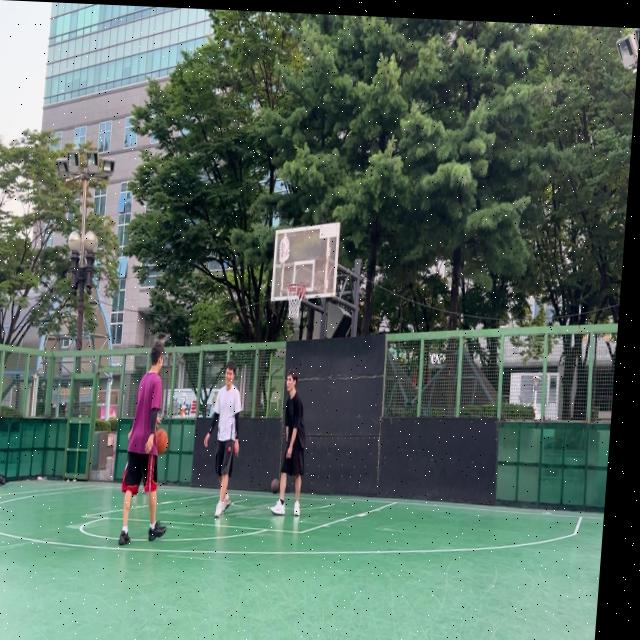basketball: (154, 428, 169, 455), (270, 478, 281, 495)
hoop: (284, 284, 306, 320)
